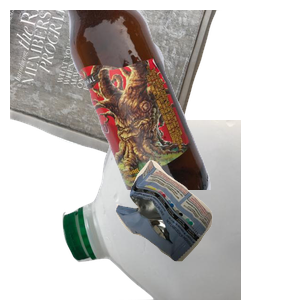glass: (65, 10, 300, 190)
paper: (10, 10, 222, 176)
plastic: (60, 120, 300, 300)
trash: (113, 157, 300, 300)
